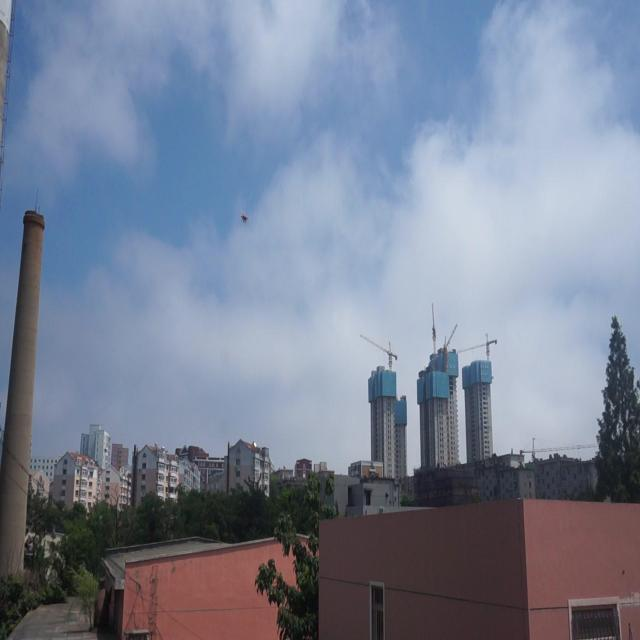drone: (239, 209, 250, 227)
